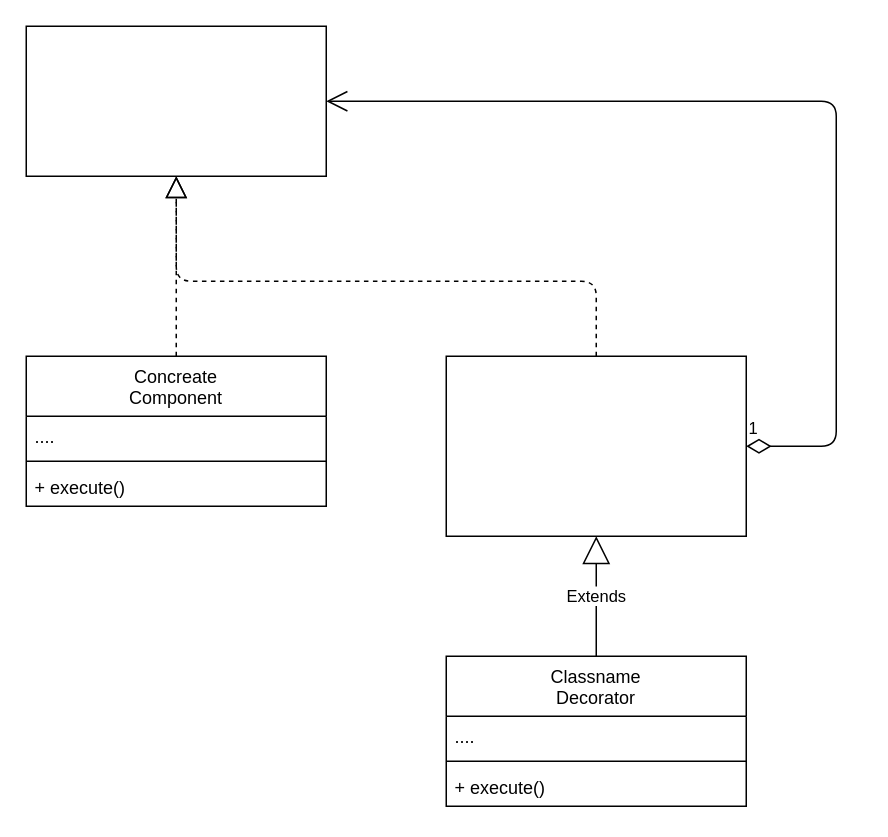
Some shapes in this 888 by 837 pixel diagram are drawn without their labels. Here are the shapes that lost their labels. From the top down, the centre of each, then its label:
At (x=175, y=100): "<<Interface>> Component ... + execute()".
At (x=595, y=445): "Base Decorator - wapper: Component + Decorator(c: Component) + execute()".
